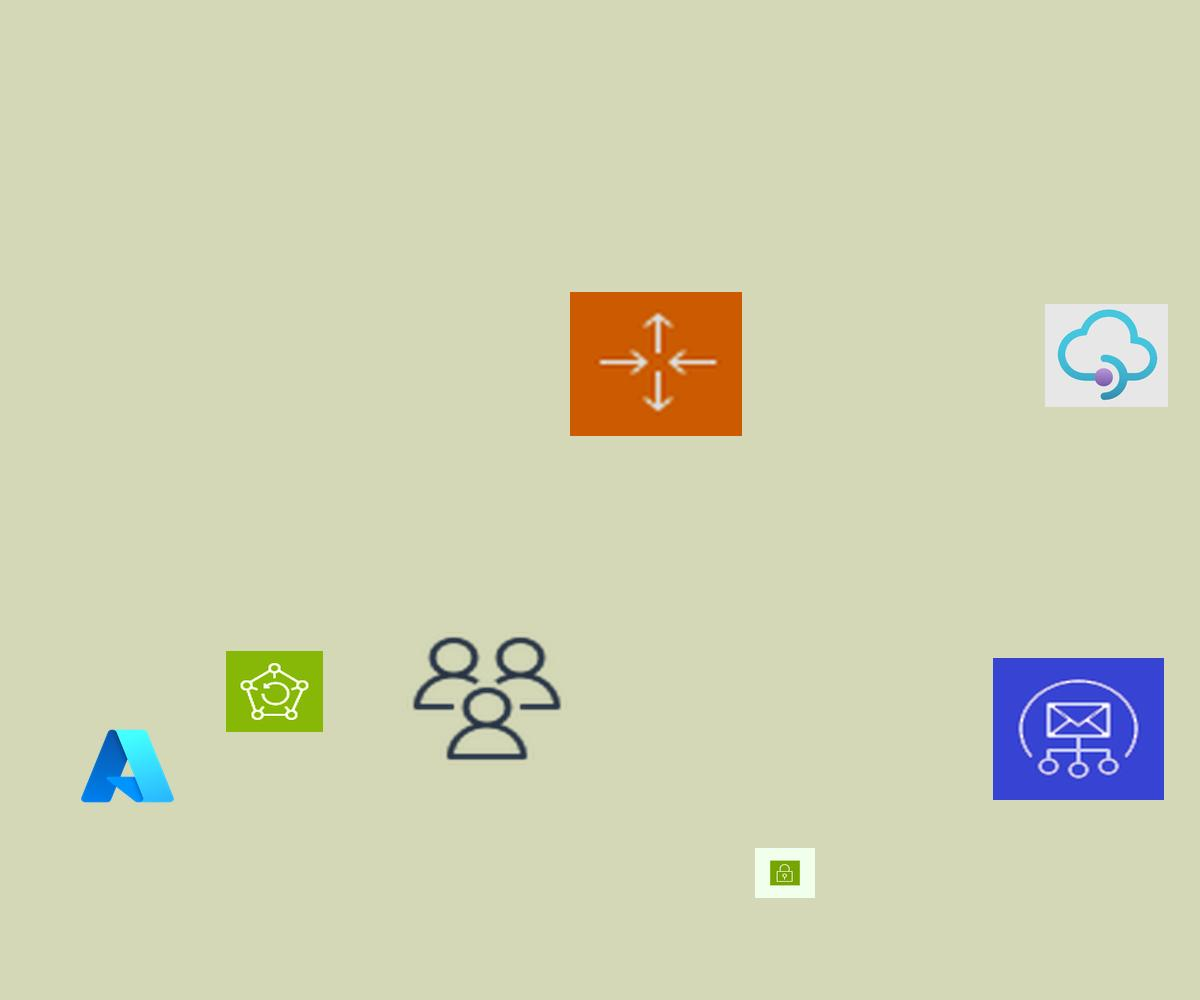AWS-Backup: (226, 651, 323, 732)
AWS-Public-subnet: (755, 848, 815, 898)
AWS-Res_Users: (407, 632, 567, 765)
AWS-Scaling-group: (570, 292, 742, 436)
AWS-Simple-Email-Service: (993, 658, 1164, 800)
Azure_api_gateway: (1045, 304, 1168, 407)
Azure_services: (77, 724, 178, 808)
